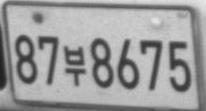5: (167, 39, 193, 93)
6: (116, 37, 141, 89)
7: (36, 35, 60, 86), (140, 39, 163, 90)
8: (89, 36, 114, 89), (13, 33, 37, 84)
부: (63, 44, 86, 87)
